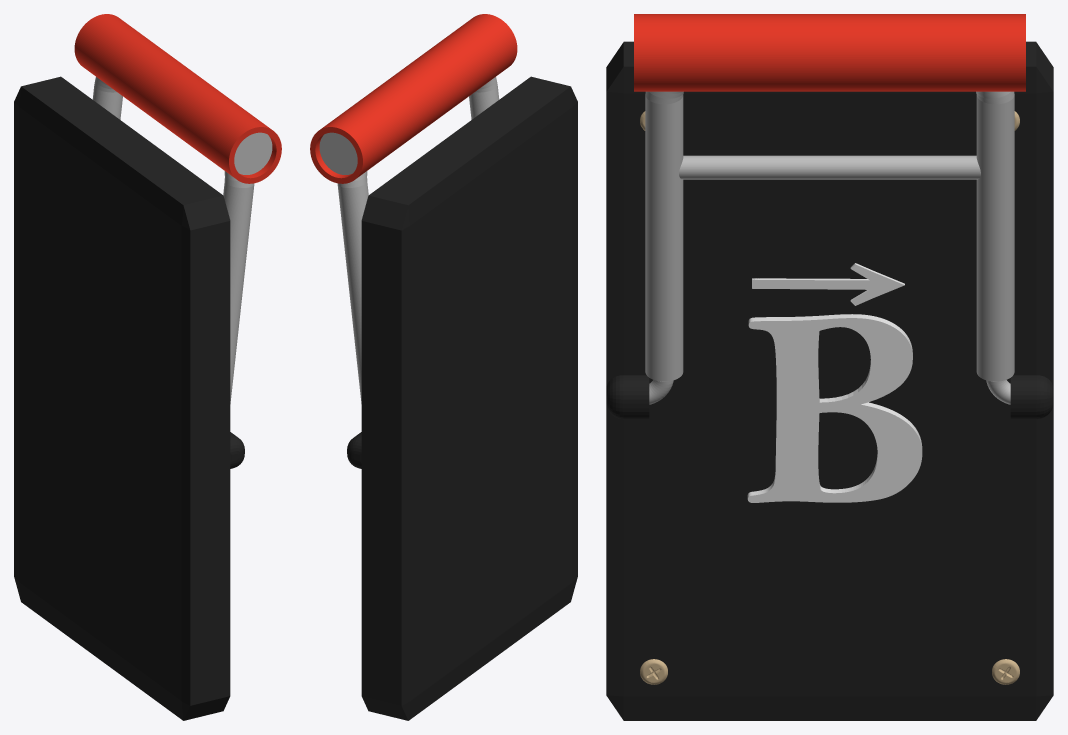
File: B-lever2.fbx
3 renders of one model, left to right at view 1: azimuth 30°, elevation 25°; view 2: azimuth 150°, elevation 25°; view 3: azimuth 270°, elevation 25°, orthographic. The views are drawn at different scales.
Parts seen in each view (by area): view 1: Cube, Cylinder.001; view 2: Cube, Cylinder.001; view 3: Cube, Cylinder.001, Text.001, Cube.002, Text, Cylinder.008.
Boxes of the visible parts, x1,y1,x2,y2 form: Cube: (14, 76, 230, 720); Cylinder.001: (74, 14, 281, 403); Cube: (361, 76, 577, 720); Cylinder.001: (310, 14, 517, 403); Cube: (606, 41, 1053, 720); Cylinder.001: (634, 14, 1025, 404); Text.001: (747, 314, 922, 502); Cube.002: (606, 375, 1053, 419); Text: (752, 263, 904, 305); Cylinder.008: (640, 111, 1019, 684).
Bounding box in the file's own units: 42.25 × 222 × 124.
